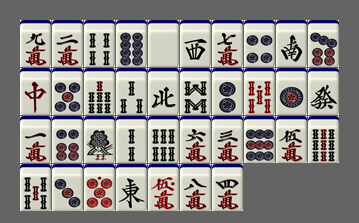0m: (148, 164, 179, 211)
0p: (84, 164, 115, 211)
0s: (244, 68, 275, 115)
1m: (20, 116, 51, 163)
1p: (276, 68, 307, 115)
1s: (84, 116, 115, 163)
1z: (116, 164, 147, 211)
2m: (52, 20, 83, 67)
2p: (212, 68, 243, 115)
2s: (116, 116, 147, 163)
2z: (276, 20, 307, 67)
3m: (212, 116, 243, 163)
3p: (52, 164, 83, 211)
3s: (116, 68, 147, 115)
3z: (180, 20, 211, 67)
4m: (212, 164, 243, 211)
4p: (244, 20, 275, 67)
4s: (84, 20, 115, 67)
4z: (148, 68, 179, 115)
5m: (276, 116, 307, 163)
5p: (52, 68, 83, 115)
5s: (20, 164, 51, 211)
5z: (148, 20, 179, 67)
6m: (180, 116, 211, 163)
6p: (52, 116, 83, 163)
6s: (148, 116, 179, 163)
6z: (308, 68, 339, 115)
7m: (212, 20, 243, 67)
7p: (308, 20, 339, 67)
7s: (84, 68, 115, 115)
7z: (20, 68, 51, 115)
8m: (180, 164, 211, 211)
8p: (116, 20, 147, 67)
8s: (180, 68, 211, 115)
9m: (20, 20, 51, 67)
9p: (244, 116, 275, 163)
9s: (308, 116, 339, 163)
